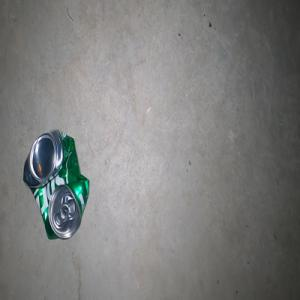SodaCan: (22, 129, 89, 239)
